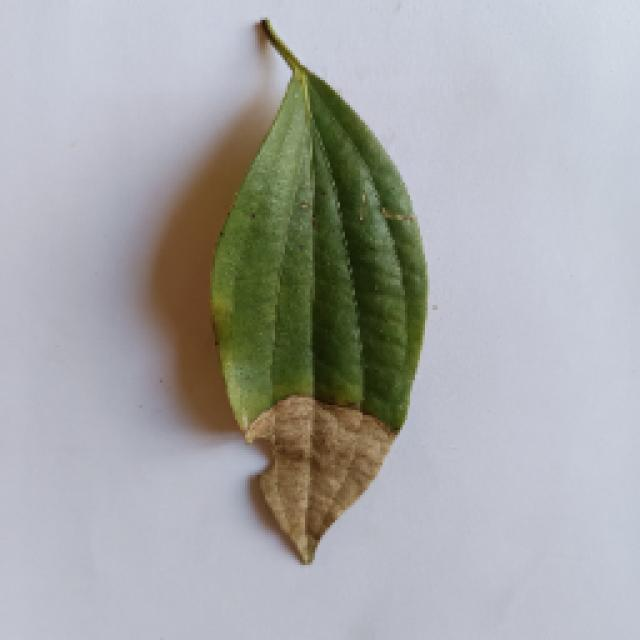footrot: (205, 18, 427, 562)
